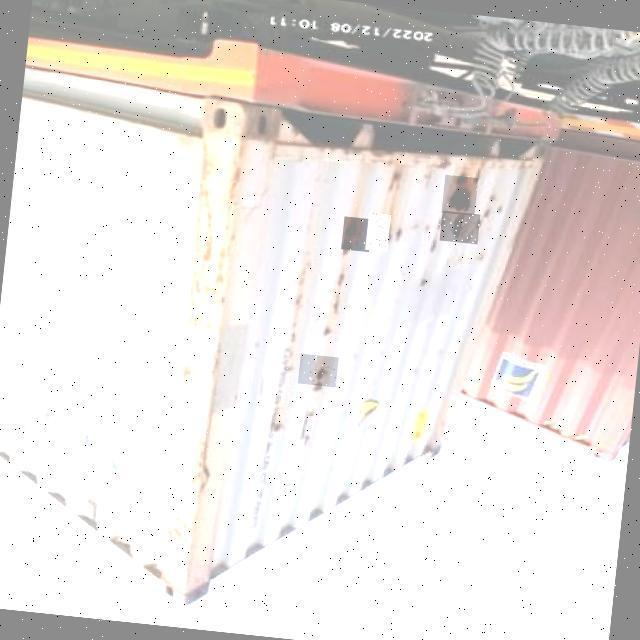rust: (442, 176, 479, 217), (299, 354, 340, 388), (440, 211, 481, 245), (342, 217, 373, 253), (366, 214, 392, 253)
